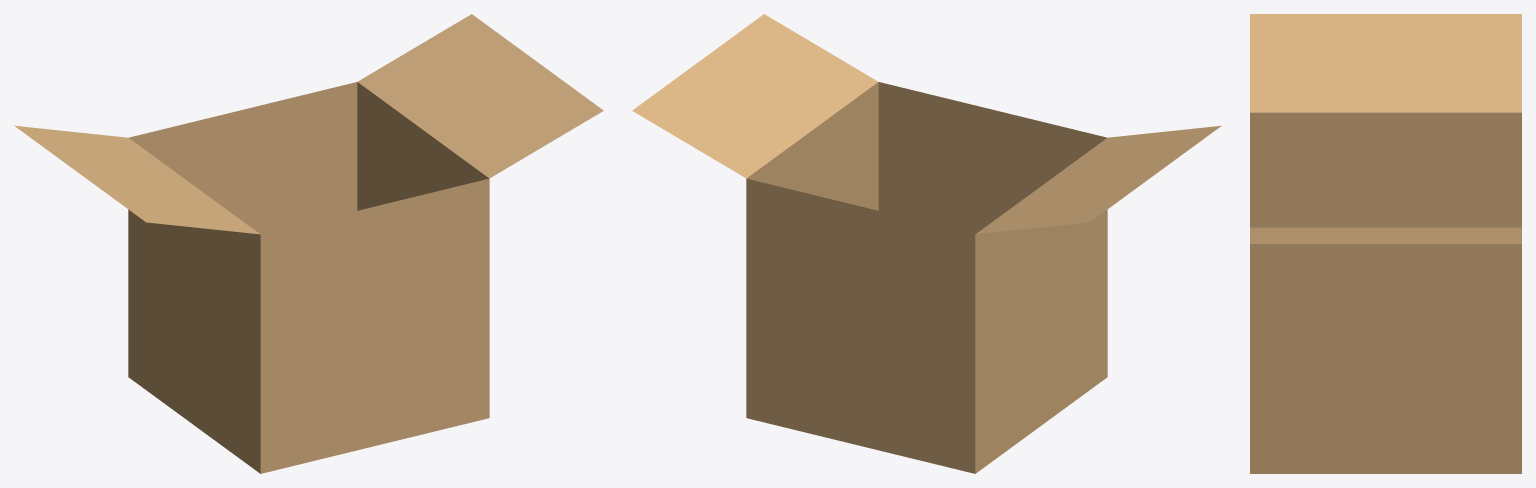
Rendered from OpenCBox.gltf.
3 views of the same model, side by side, from view 1: azimuth 30°, elevation 25°; view 2: azimuth 150°, elevation 25°; view 3: azimuth 270°, elevation 25° (orthographic). The views are drawn at different scales.
Parts seen in each view (by area): view 1: opencardboardbox; view 2: opencardboardbox; view 3: opencardboardbox.
Boxes of the visible parts, left/top/right/bottom form: opencardboardbox: left=14, top=14, right=603, bottom=473; opencardboardbox: left=632, top=14, right=1221, bottom=473; opencardboardbox: left=1250, top=14, right=1521, bottom=473.
Bounding box in the file's own units: 0.75 × 0.4375 × 0.375.
1 material, 1 textured.
